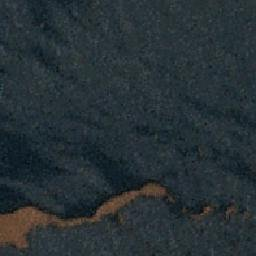debris: (100, 180, 168, 214), (1, 207, 39, 248), (45, 212, 96, 231), (195, 205, 229, 218)
